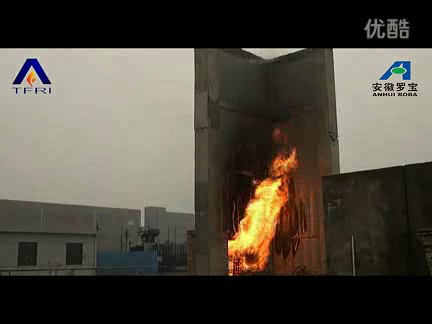fire: (226, 145, 300, 278)
